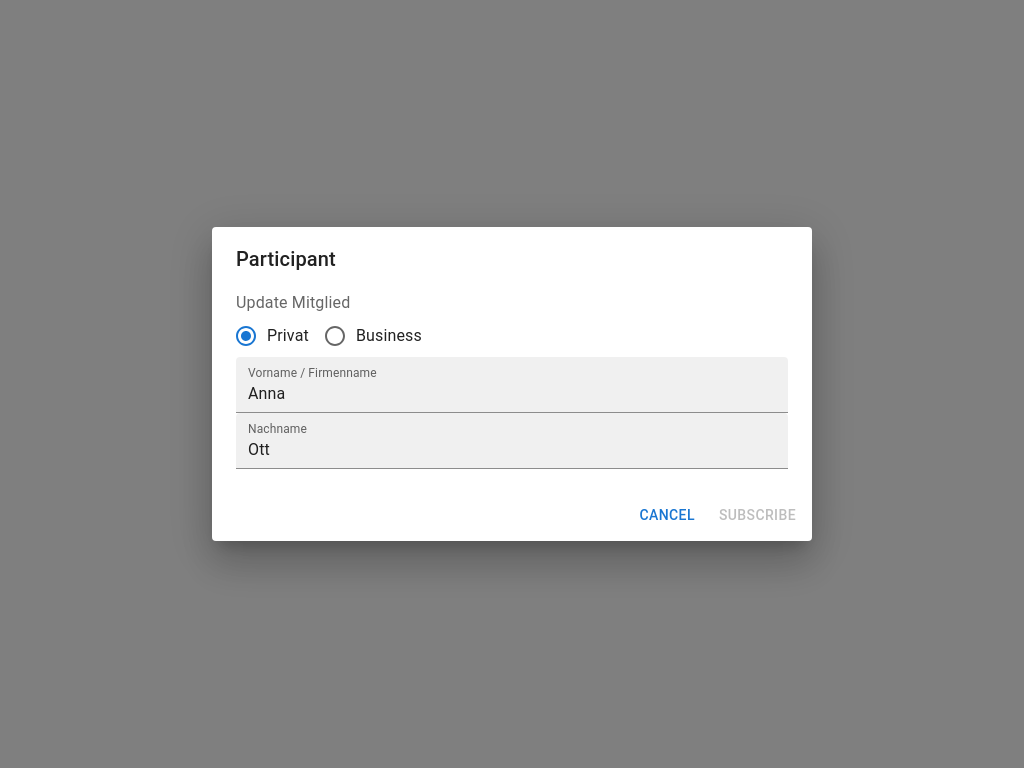
Test: ParticipantCellEditDialog › stays open and shows the error when the save fails
Type "x" into the field labelled "Nachname" at [512, 441], box [236,413,788,469]
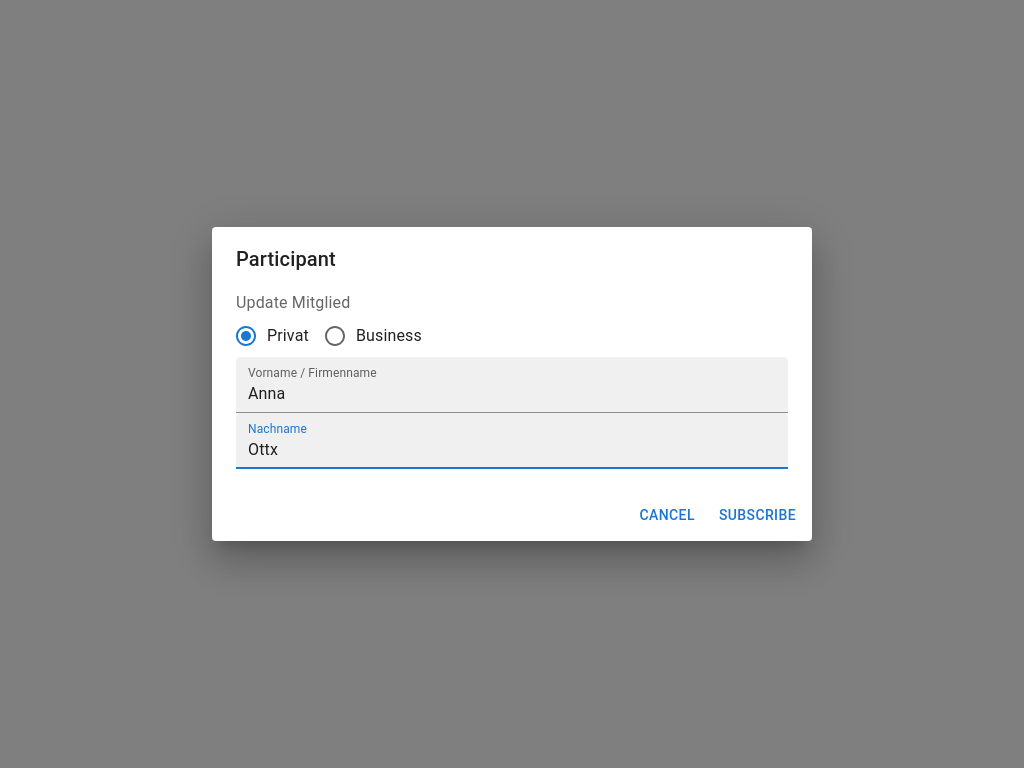
Click the button "Subscribe" at [757, 515], box [711,497,804,533]
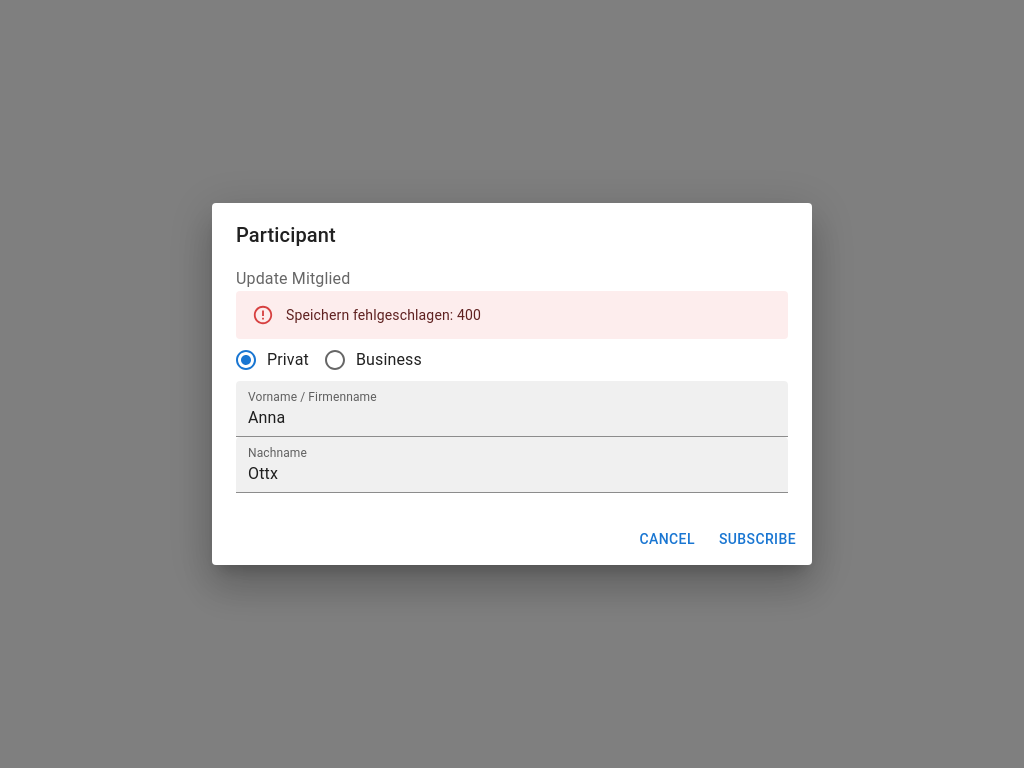
Expected: the text "Update Mitglied" is shown, [236,269,350,288]
Expected: the message reads "Speichern fehlgeschlagen: 400", [286,307,481,323]
